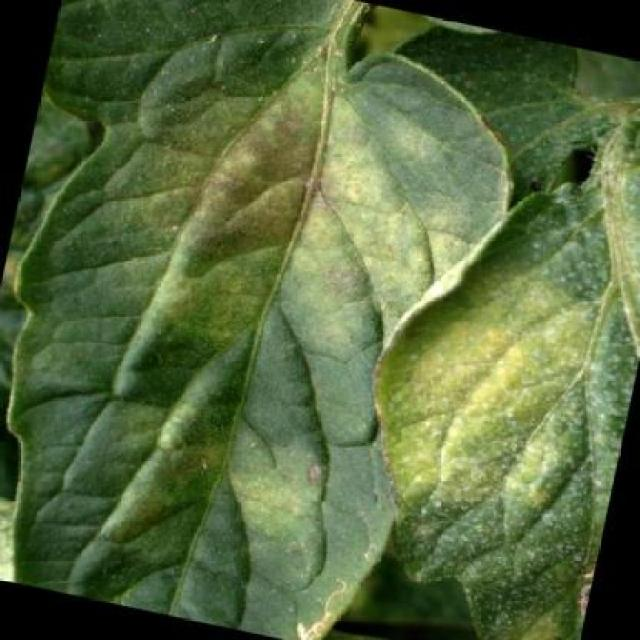Leaf Mold: (0, 0, 527, 638), (320, 109, 640, 640)
